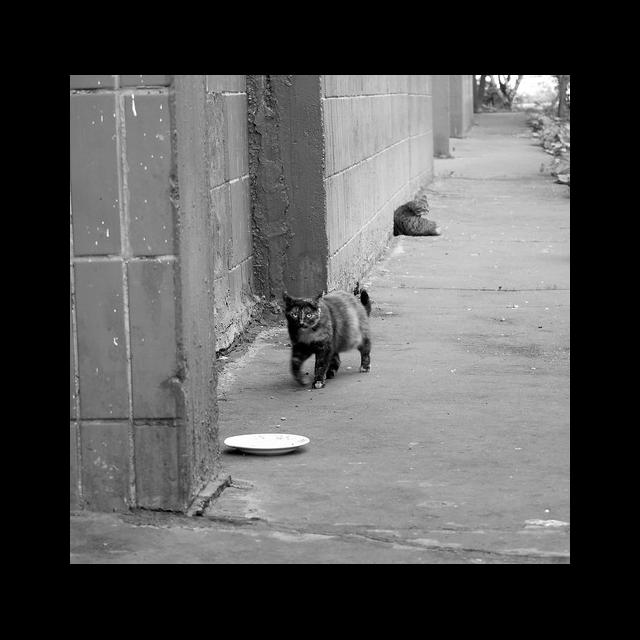animals: (279, 287, 375, 389), (393, 196, 442, 238)
